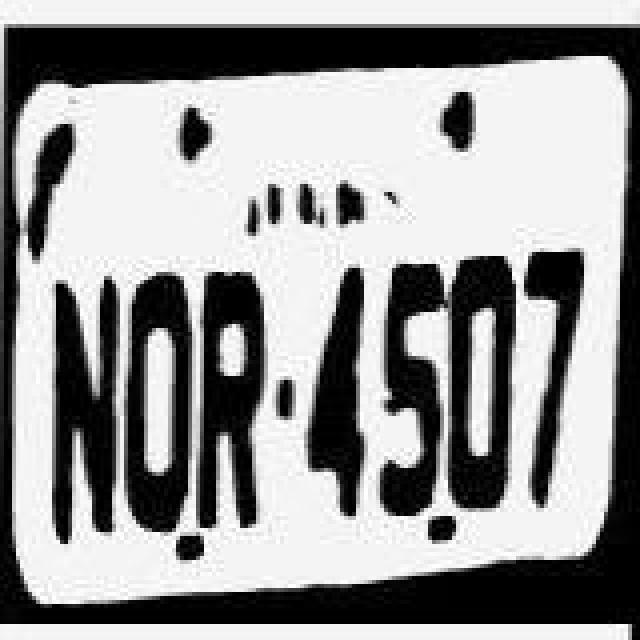4: (298, 256, 382, 520)
5: (372, 248, 452, 520)
7: (518, 234, 594, 518)
N: (44, 272, 124, 544)
O: (116, 258, 196, 534), (446, 240, 522, 512)
R: (198, 266, 282, 534)
